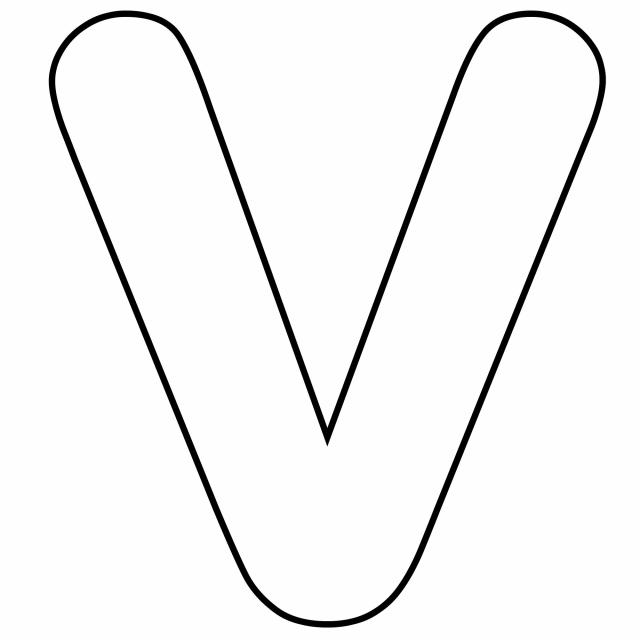V: (30, 0, 614, 640)
